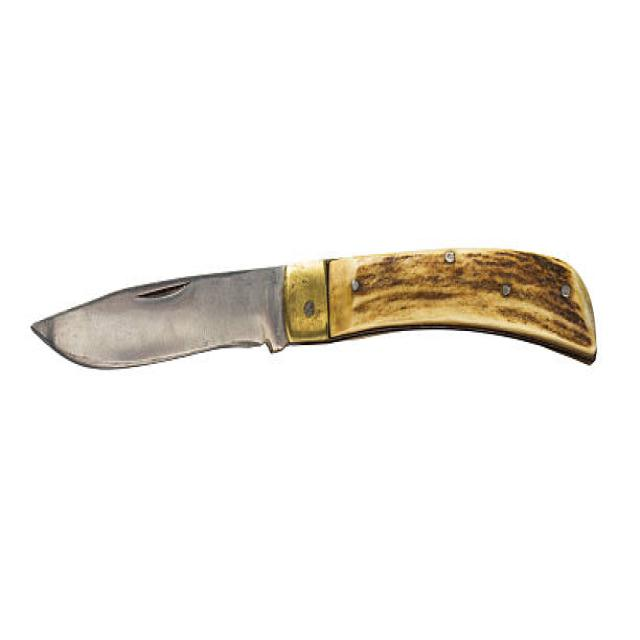knife: (27, 247, 604, 391)
